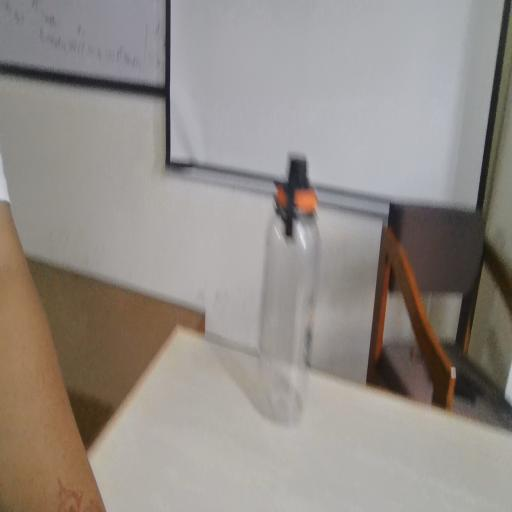Bottle: (244, 144, 324, 440)
